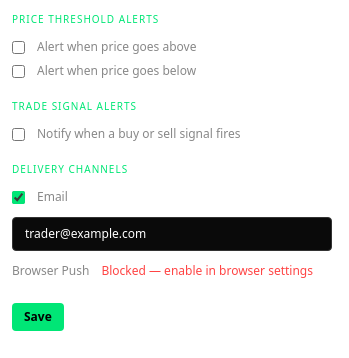
AlertSettings › shows price-above input when toggle is checked
Click the checkbox with test id "price-above-toggle" at coordinates (18, 47), box [12,40,25,54]
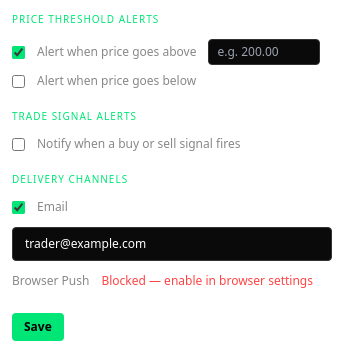
Check: the number field with test id "price-above-input" is shown, box [208,39,320,65]
